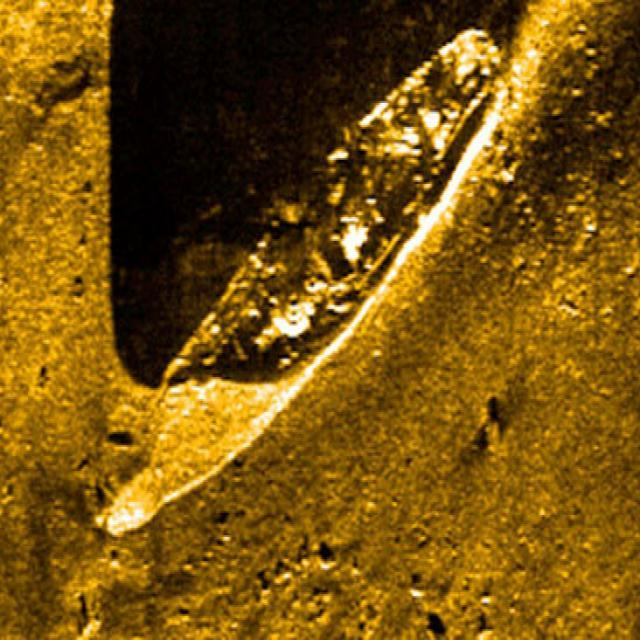shipwreck: (96, 28, 502, 528)
